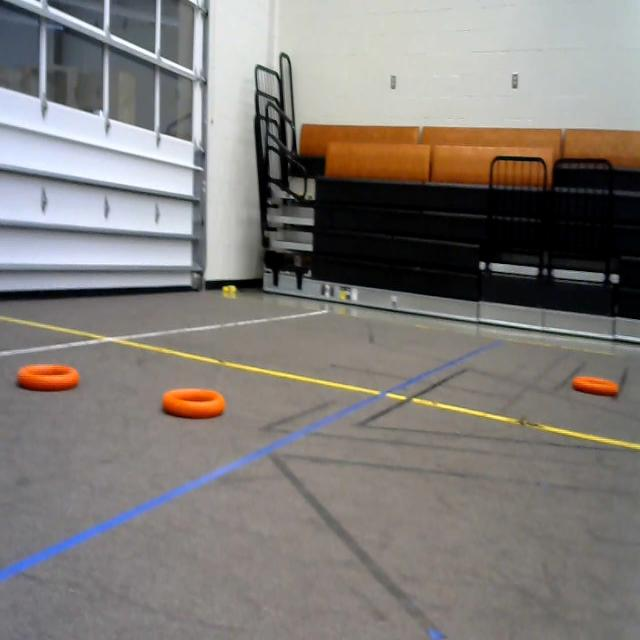note: (13, 352, 82, 405), (155, 378, 229, 427), (571, 359, 620, 408)
